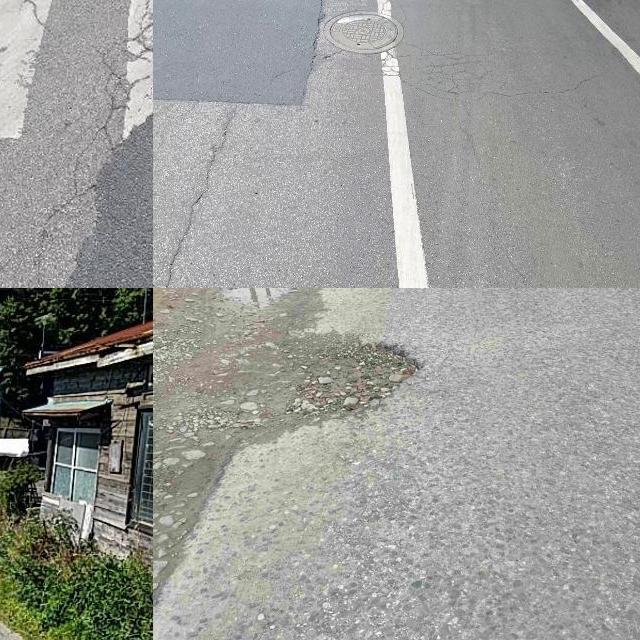Lubang: (329, 12, 405, 51)
Memanjang: (154, 103, 250, 288)
Pinggir: (190, 325, 438, 504)
Sambungan: (153, 0, 324, 105), (65, 111, 153, 288)
